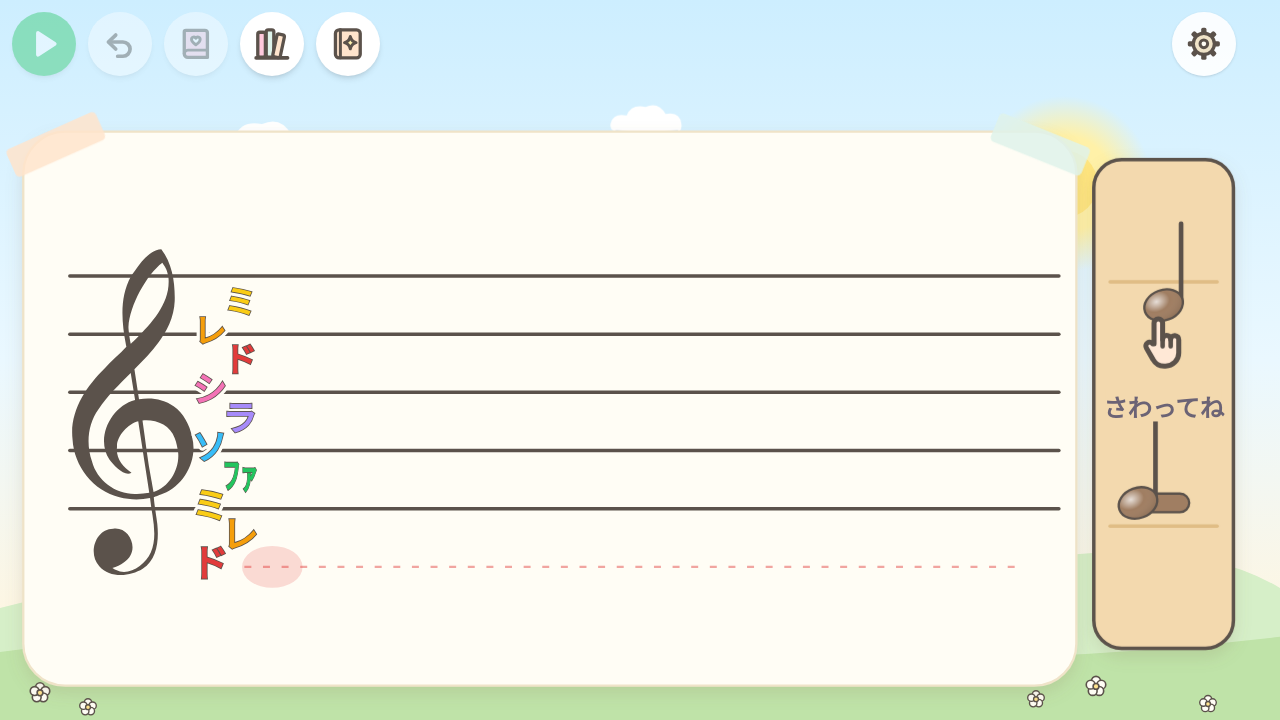
Test: 押下音が失敗しても、ボタンの操作は実行される（#102・#116）
Click the button named "ほんだな".
click(272, 44)  # box [240,12,304,76]
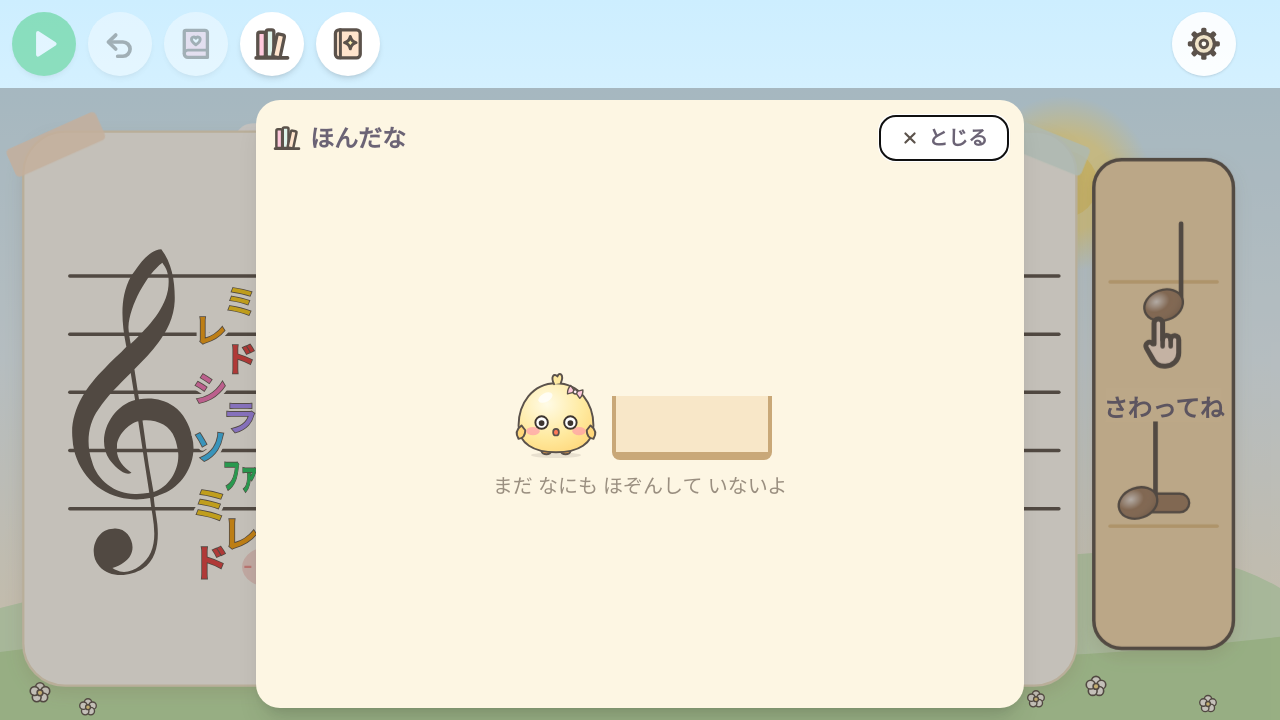
Now the heading "ほんだな" is shown, box [272,122,406,154]
